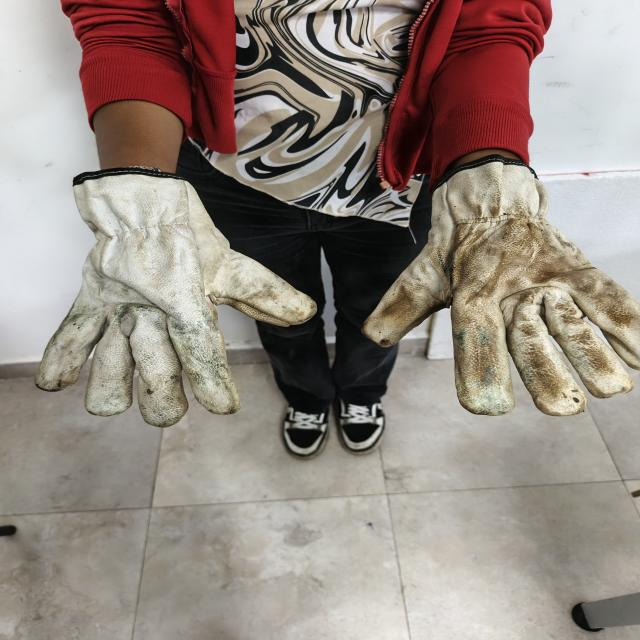gloves: (362, 154, 640, 416), (35, 171, 316, 427)
